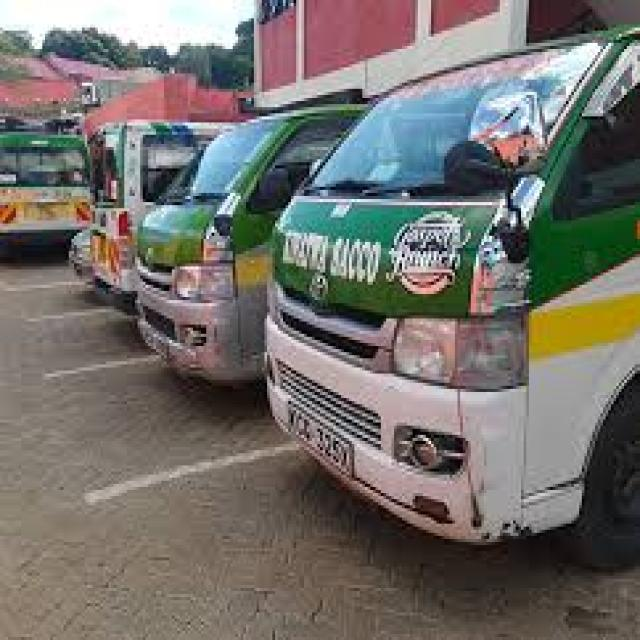matatu: (245, 24, 640, 597)
